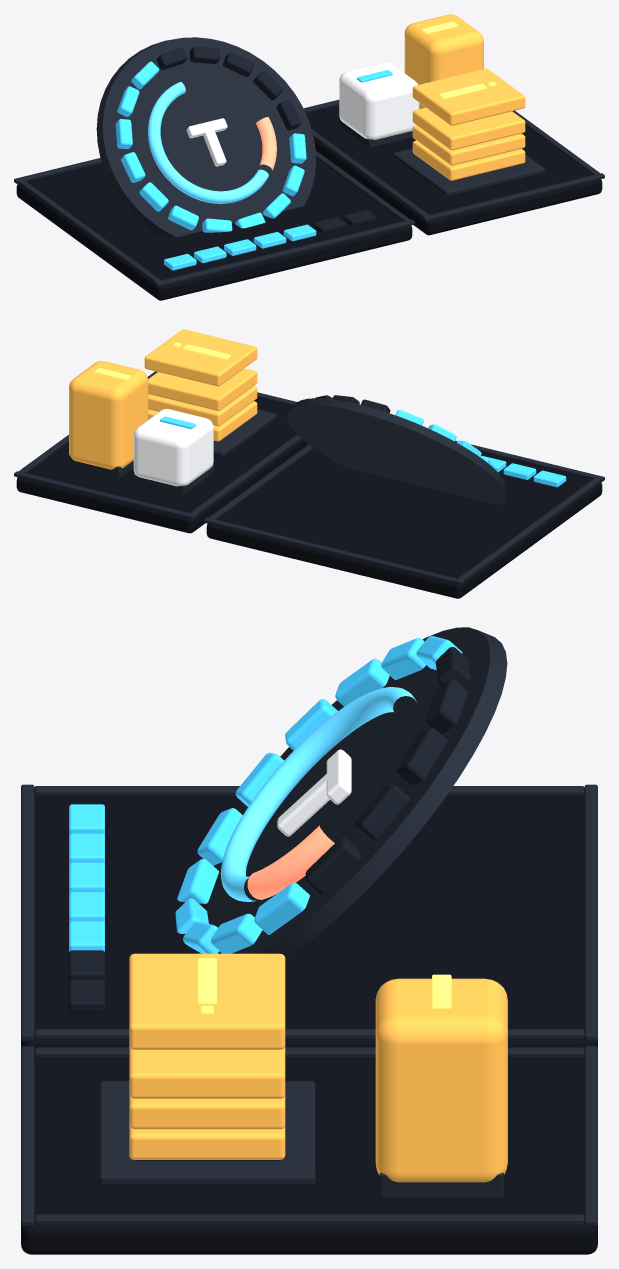
The model's file is quota.glb.
3 views of the same model, one above another, from view 1: azimuth 30°, elevation 25°; view 2: azimuth 150°, elevation 25°; view 3: azimuth 270°, elevation 25° (orthographic). The views are drawn at different scales.
Parts seen in each view (by area): view 1: quota_dial, object 1, object 8, object 26, object 29, credits_top, quota_arc_5h, object 23, object 20, object 22, object 21, object 2 (+11 smaller); view 2: object 1, quota_dial, object 8, object 29, object 26, credits_top, object 23, object 3, object 22, object 10, object 4, object 20 (+9 smaller); view 3: object 1, object 8, quota_dial, object 29, credits_top, object 20, object 23, quota_arc_5h, object 7, object 22, object 21, object 4 (+14 smaller).
Part boxes in pixels (x1=…): quota_dial: x1=96, y1=37, x2=316, y2=237; object 1: x1=16, y1=158, x2=412, y2=300; object 8: x1=306, y1=105, x2=602, y2=235; object 26: x1=339, y1=62, x2=419, y2=139; object 29: x1=404, y1=14, x2=483, y2=108; credits_top: x1=412, y1=68, x2=525, y2=125; quota_arc_5h: x1=148, y1=82, x2=268, y2=203; object 23: x1=412, y1=107, x2=525, y2=150; object 20: x1=393, y1=148, x2=544, y2=196; object 22: x1=412, y1=125, x2=525, y2=165; object 21: x1=412, y1=140, x2=525, y2=180; object 2: x1=155, y1=219, x2=414, y2=286; object 1: x1=206, y1=448, x2=602, y2=598; quota_dial: x1=286, y1=395, x2=505, y2=505; object 8: x1=16, y1=398, x2=308, y2=533; object 29: x1=69, y1=361, x2=148, y2=469; object 26: x1=133, y1=409, x2=213, y2=486; credits_top: x1=144, y1=329, x2=257, y2=386; object 23: x1=148, y1=368, x2=257, y2=410; object 3: x1=204, y1=517, x2=463, y2=585; object 22: x1=148, y1=386, x2=257, y2=426; object 10: x1=14, y1=471, x2=195, y2=519; object 4: x1=458, y1=478, x2=600, y2=581; object 20: x1=213, y1=409, x2=276, y2=457; object 1: x1=21, y1=796, x2=597, y2=1048; object 8: x1=21, y1=1057, x2=597, y2=1254; quota_dial: x1=175, y1=627, x2=507, y2=959; object 29: x1=375, y1=978, x2=507, y2=1182; credits_top: x1=129, y1=953, x2=285, y2=1049; object 20: x1=99, y1=1081, x2=315, y2=1185; object 23: x1=129, y1=1046, x2=285, y2=1098; quota_arc_5h: x1=220, y1=687, x2=416, y2=901; object 7: x1=34, y1=1214, x2=584, y2=1225; object 22: x1=129, y1=1095, x2=285, y2=1129; object 21: x1=129, y1=1126, x2=285, y2=1159; object 4: x1=34, y1=786, x2=584, y2=796.
Size of the model in its own units: 3.44 by 1.14 by 1.92.
